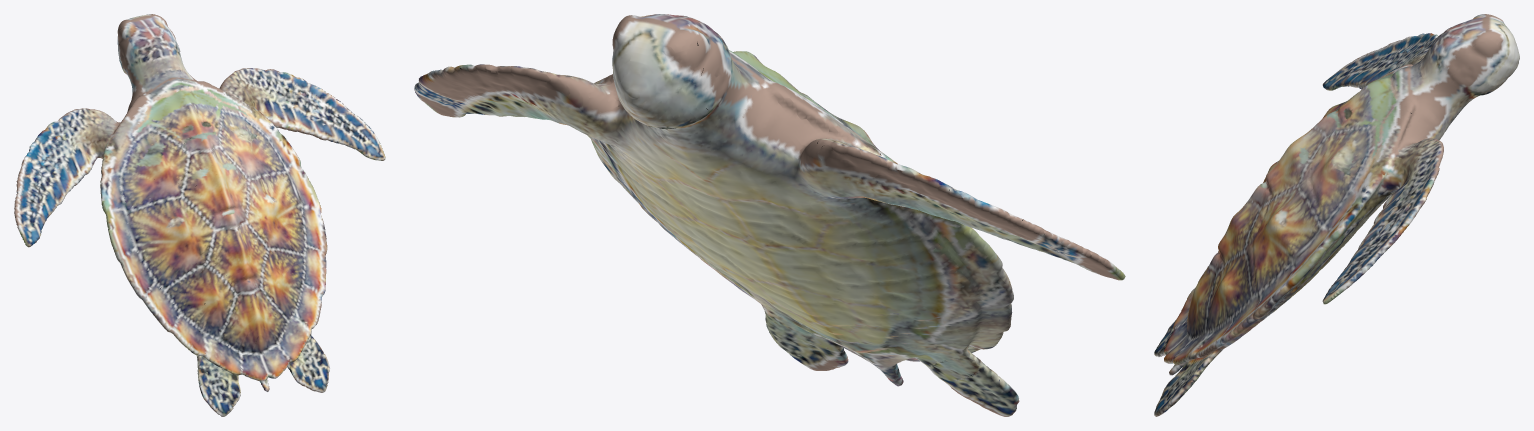
The model's file is hunyuan_turtle_baked.glb.
3 views of the same model, side by side, from view 1: azimuth 30°, elevation 25°; view 2: azimuth 150°, elevation 25°; view 3: azimuth 270°, elevation 25° (orthographic). The views are drawn at different scales.
Parts seen in each view (by area): view 1: hunyuan_turtle_test.glb; view 2: hunyuan_turtle_test.glb; view 3: hunyuan_turtle_test.glb.
Boxes of the visible parts, bbox=[...] form: hunyuan_turtle_test.glb: bbox=[14, 14, 385, 416]; hunyuan_turtle_test.glb: bbox=[414, 14, 1125, 416]; hunyuan_turtle_test.glb: bbox=[1154, 14, 1519, 416].
Size of the model in its own units: 1.99 by 1.53 by 1.39.
Materials: 1 (1 with a texture image).
